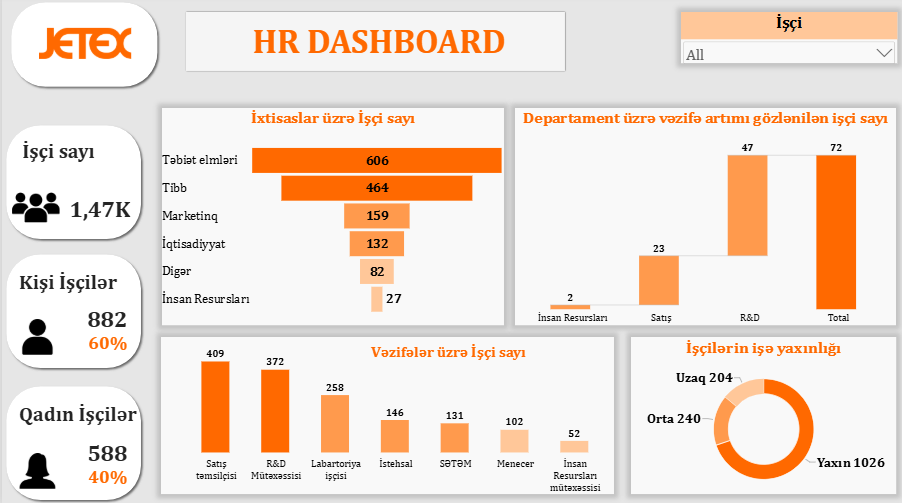

What the dashboard file says about the page in this screenshot:
{"tool":"powerbi","page":{"name":"Page 1","canvas":[1920,1080],"ordinal":0},"visuals":[{"type":"shape","box":[11.1,4.4,328.9,197.8],"z":0},{"type":"image","box":[78,13.4,195.6,175.6],"z":1000},{"type":"textbox","box":[390.2,33.4,805,124.9],"z":2000},{"type":"shape","box":[0,266.7,304.4,260],"z":3000},{"type":"cardVisual","fields":{"Data":["HR Analytics Data.İşçi sayı"]},"box":[115.6,375.6,186.7,151.1],"z":4000},{"type":"textbox","box":[17.8,304.4,206.7,71.1],"z":5000},{"type":"image","box":[0,397.8,144.4,104.4],"z":6000},{"type":"shape","box":[0,540,304.4,260],"z":7000},{"type":"cardVisual","fields":{"Data":["HR Analytics Data.Kişi İşçi sayı"]},"box":[131.1,611.1,184.4,151.1],"z":8000},{"type":"image","box":[6.7,686.7,137.8,75.6],"z":9000},{"type":"textbox","box":[35.6,582.2,248.9,66.7],"z":10000},{"type":"shape","box":[0,820,304.4,260],"z":11000},{"type":"textbox","box":[35.6,862.2,268.9,66.7],"z":12000},{"type":"image","box":[6.7,971.1,137.8,75.6],"z":13000},{"type":"cardVisual","fields":{"Data":["HR Analytics Data.Qadın İşçi sayı"]},"box":[131.1,895.6,184.4,151.1],"z":14000},{"type":"cardVisual","fields":{"Data":["HR Analytics Data.Kişi İşci %"]},"box":[146.7,686.7,157.8,100],"z":15000},{"type":"cardVisual","fields":{"Data":["HR Analytics Data.Qadın İşçi %"]},"box":[146.7,971.1,157.8,100],"z":16000},{"type":"donutChart","title":"İşçilərin işə yaxınlığı","fields":{"Category":["HR Analytics Data.İşə Məsafə"],"Y":["HR Analytics Data.İşçi sayı"]},"box":[1338,724.7,564.2,334.5],"z":17000},{"type":"slicer","title":"İşçi","fields":{"Values":["HR Analytics Data.Ad"]},"box":[1443.2,34.2,459.7,109],"z":18000},{"type":"clusteredColumnChart","title":" Vəzifələr üzrə İşçi sayı","fields":{"Category":["HR Analytics Data.Vəzifə"],"Y":["HR Analytics Data.İşçi sayı"]},"box":[339,724.7,963.3,334.5],"z":19000},{"type":"funnel","title":"    İxtisaslar üzrə İşçi sayı","fields":{"Category":["HR Analytics Data.İxtisas"],"Y":["HR Analytics Data.İşçi sayı"]},"box":[340,237.3,726.9,461.8],"z":20000},{"type":"textbox","box":[744.1,737.6,410.5,64.1],"z":21000},{"type":"waterfallChart","title":"Departament üzrə vəzifə artımı gözlənilən işçi sayı ","fields":{"Category":["HR Analytics Data.Departament"],"Y":["HR Analytics Data.Vəzifə artımı gözlənilən işçi sayı"]},"box":[1090.4,237.3,810.3,461.8],"z":21001}]}

Visuals, with their boxes in screenshot pixels (x1, y1, x2, y2), scaled from the page's 1920x1080 canvas onto the 902x503 screenshot:
shape: 5:2:160:94
image: 37:6:129:88
textbox: 183:16:561:74
shape: 0:124:143:245
cardVisual - HR Analytics Data.İşçi sayı: 54:175:142:245
textbox: 8:142:105:175
image: 0:185:68:234
shape: 0:252:143:373
cardVisual - HR Analytics Data.Kişi İşçi sayı: 62:285:148:355
image: 3:320:68:355
textbox: 17:271:134:302
shape: 0:382:143:502
textbox: 17:402:143:433
image: 3:452:68:487
cardVisual - HR Analytics Data.Qadın İşçi sayı: 62:417:148:487
cardVisual - HR Analytics Data.Kişi İşci %: 69:320:143:366
cardVisual - HR Analytics Data.Qadın İşçi %: 69:452:143:499
"İşçilərin işə yaxınlığı" donutChart: 629:338:894:493
"İşçi" slicer: 678:16:894:67
" Vəzifələr üzrə İşçi sayı" clusteredColumnChart: 159:338:612:493
"    İxtisaslar üzrə İşçi sayı" funnel: 160:111:501:326
textbox: 350:344:542:373
"Departament üzrə vəzifə artımı gözlənilən işçi sayı " waterfallChart: 512:111:893:326
